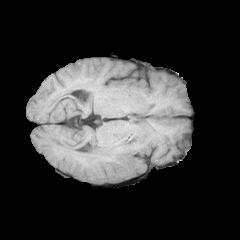glioma: (76, 140, 148, 183)
